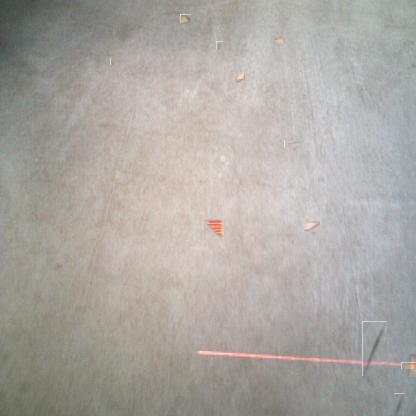dirty: (204, 219, 224, 239), (303, 219, 319, 233), (405, 357, 416, 373), (235, 71, 245, 83), (272, 34, 284, 44), (181, 13, 190, 24)
mark: (362, 321, 387, 376), (394, 393, 404, 416), (287, 138, 301, 151), (314, 174, 326, 184), (216, 41, 223, 50), (110, 57, 115, 65)
